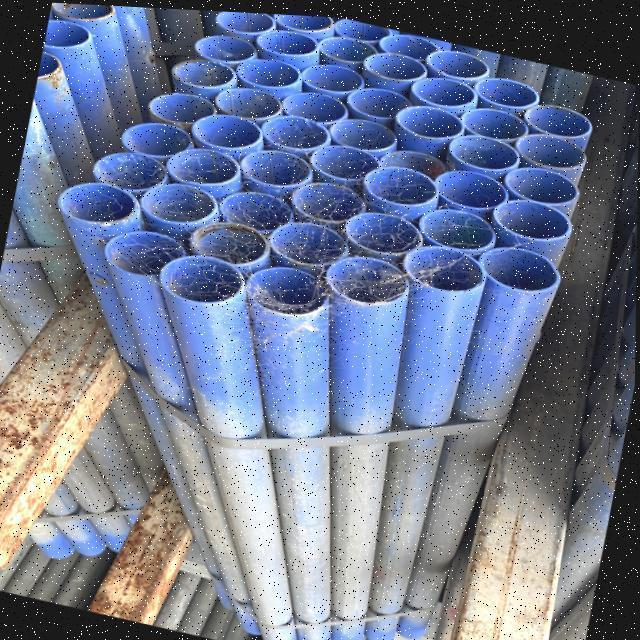pipe: (249, 259, 335, 312), (270, 218, 351, 273), (106, 224, 191, 275), (158, 252, 243, 302), (332, 250, 416, 299), (489, 188, 572, 235), (214, 187, 304, 230), (186, 218, 268, 265), (405, 238, 483, 287), (478, 240, 561, 286), (497, 158, 580, 203), (288, 177, 370, 222), (140, 179, 220, 225), (94, 149, 175, 194), (346, 207, 423, 254), (59, 180, 138, 224), (364, 160, 441, 205), (147, 89, 231, 129), (187, 110, 262, 154), (121, 119, 210, 156), (430, 161, 508, 203), (415, 201, 491, 244), (240, 143, 312, 187), (446, 126, 525, 166), (162, 144, 241, 184), (209, 78, 283, 119), (455, 100, 540, 135), (338, 82, 422, 116), (261, 108, 332, 148), (309, 138, 383, 176), (328, 112, 400, 149), (276, 86, 353, 120), (399, 98, 468, 135), (527, 97, 595, 134), (191, 30, 262, 64), (172, 55, 240, 90), (302, 57, 368, 92), (377, 145, 451, 176), (357, 47, 431, 78), (235, 52, 301, 85), (475, 70, 539, 103), (518, 129, 583, 160), (410, 74, 473, 104), (252, 25, 318, 53), (427, 44, 490, 73), (315, 33, 378, 62), (378, 28, 438, 55), (332, 15, 395, 38), (212, 9, 274, 31), (271, 11, 333, 30), (52, 2, 113, 20), (46, 21, 89, 45)
